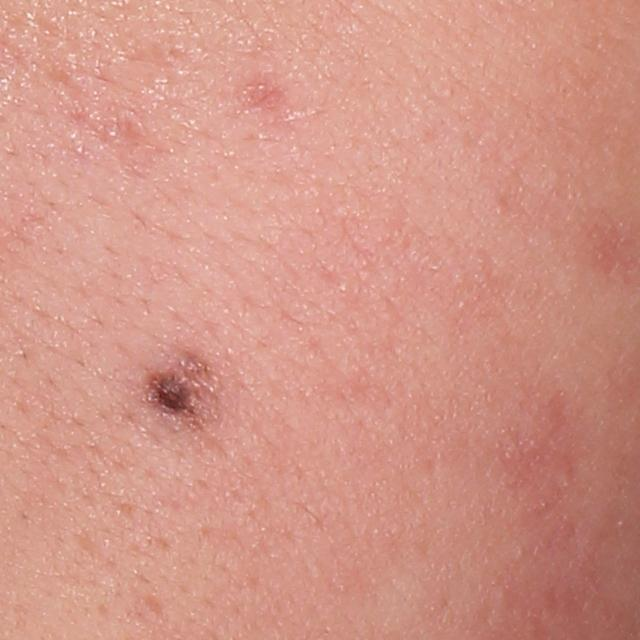nevus: (144, 372, 197, 422)
